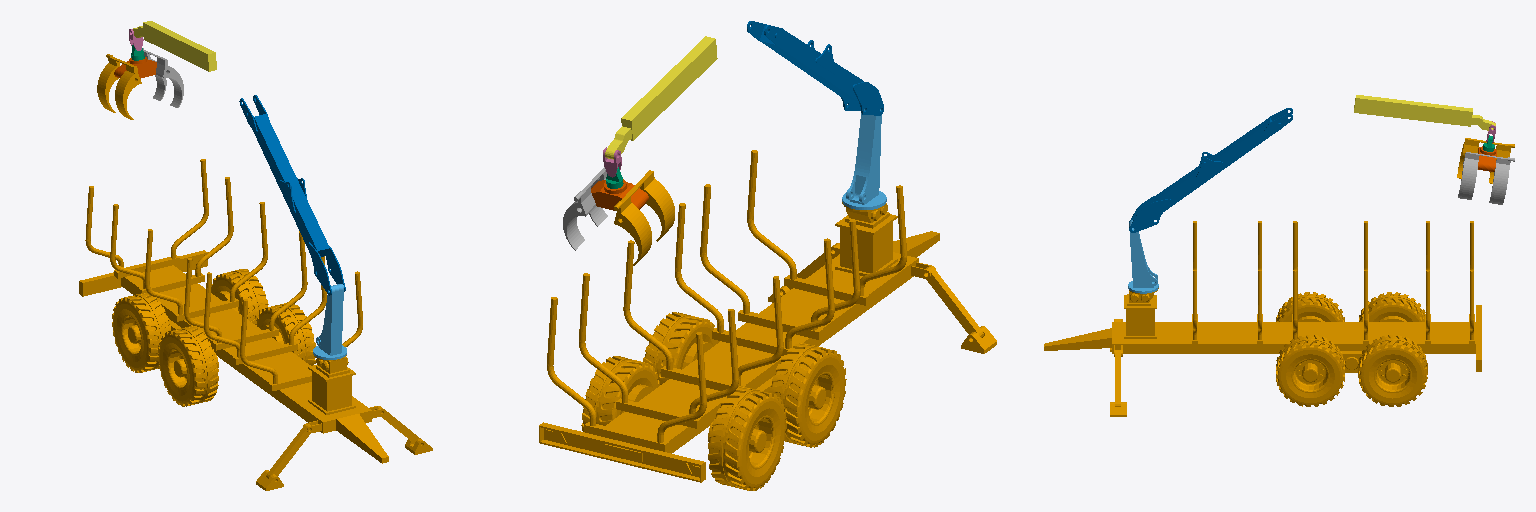
URDF robot description (Forwarder):
<?xml version="1.0" ?>
<robot name="Forwarder">

<material name="yellow">
  <color rgba="0.255 0.194 0.102 1.000"/>
</material>

<link name="base_link">
  <inertial>
    <origin xyz="-0.003908201139738416 0.9506037201761217 0.7021762721407181" rpy="0 0 0"/>
    <mass value="25822.657136799415"/>
    <inertia ixx="68520.30015819168" iyy="14442.08580938712" izz="76765.0744439933" ixy="16.406908694211793" iyz="2841.662999748536" ixz="-4.0217320324372565"/>
  </inertial>
  <visual>
    <origin xyz="0 0 0" rpy="0 0 0"/>
    <geometry>
      <mesh filename="meshes/base_link.stl" scale="0.001 0.001 0.001"/>
    </geometry>
    <material name="silver"/>
    <material/>
  </visual>
  <collision>
    <origin xyz="0 0 0" rpy="0 0 0"/>
    <geometry>
      <mesh filename="meshes/base_link_collision_vhacd.obj" scale="0.001 0.001 0.001"/>
    </geometry>
  </collision>
</link>

<link name="cranePillar1">
  <inertial>
    <origin xyz="3.497467832070701e-07 -0.0698455421799471 0.40873602648964047" rpy="0 0 0"/>
    <mass value="460.1534968092927"/>
    <inertia ixx="59.03278028466866" iyy="56.713124294482895" izz="7.345476497081563" ixy="-1.4077627952246985e-13" iyz="8.862009230487274" ixz="8.895106873296754e-13"/>
  </inertial>
  <visual>
    <origin xyz="0.002853 1.980877 -1.765904" rpy="0 0 0"/>
    <geometry>
      <mesh filename="meshes/cranePillar1.stl" scale="0.001 0.001 0.001"/>
    </geometry>
    <material name="yellow"/>
    <material/>
  </visual>
  <collision>
    <origin xyz="0.002853 1.980877 -1.765904" rpy="0 0 0"/>
    <geometry>
      <mesh filename="meshes/cranePillar1.stl" scale="0.001 0.001 0.001"/>
    </geometry>
  </collision>
</link>

<link name="grappleHook1">
  <inertial>
    <origin xyz="3.4974674460730437e-07 -0.04004389093610916 -0.11887971692825339" rpy="0 0 0"/>
    <mass value="33.99158446471375"/>
    <inertia ixx="0.20725039514286436" iyy="0.22511396492757285" izz="0.13021222476604066" ixy="-1.554312234475219e-14" iyz="-3.464613149617435e-05" ixz="1.0658141036401503e-14"/>
  </inertial>
  <visual>
    <origin xyz="0.042853 -2.404621 -4.66865" rpy="0 0 0"/>
    <geometry>
      <mesh filename="meshes/grappleHook1.stl" scale="0.001 0.001 0.001"/>
    </geometry>
    <material name="silver"/>
    <material/>
  </visual>
  <collision>
    <origin xyz="0.042853 -2.404621 -4.66865" rpy="0 0 0"/>
    <geometry>
      <mesh filename="meshes/grappleHook1.stl" scale="0.001 0.001 0.001"/>
    </geometry>
  </collision>
</link>

<link name="extension1">
  <inertial>
    <origin xyz="0.0900003497467292 0.8396951167363842 0.08216471793409852" rpy="0 0 0"/>
    <mass value="422.2365549320586"/>
    <inertia ixx="278.0083600311318" iyy="32.18252466798731" izz="250.13951836130343" ixy="-1.3145040611561853e-12" iyz="76.28971893436801" ixz="4.973799150320701e-13"/>
  </inertial>
  <visual>
    <origin xyz="0.132853 -0.088447 -5.383919" rpy="0 0 0"/>
    <geometry>
      <mesh filename="meshes/extension1.stl" scale="0.001 0.001 0.001"/>
    </geometry>
    <material name="silver"/>
    <material/>
  </visual>
  <collision>
    <origin xyz="0.132853 -0.088447 -5.383919" rpy="0 0 0"/>
    <geometry>
      <mesh filename="meshes/extension1.stl" scale="0.001 0.001 0.001"/>
    </geometry>
  </collision>
</link>

<link name="craneArm1">
  <inertial>
    <origin xyz="0.11000036108414299 1.097421971310039 1.286886872630769" rpy="0 0 0"/>
    <mass value="498.213131651919"/>
    <inertia ixx="384.12483110332505" iyy="215.59111404062423" izz="176.78289133432247" ixy="1.924221219029576e-06" iyz="-187.50947555514426" ixz="3.474305207973316e-06"/>
  </inertial>
  <visual>
    <origin xyz="0.112853 2.155476 -2.865968" rpy="0 0 0"/>
    <geometry>
      <mesh filename="meshes/craneArm1.stl" scale="0.001 0.001 0.001"/>
    </geometry>
    <material name="silver"/>
    <material/>
  </visual>
  <collision>
    <origin xyz="0.112853 2.155476 -2.865968" rpy="0 0 0"/>
    <geometry>
      <mesh filename="meshes/craneArm1.stl" scale="0.001 0.001 0.001"/>
    </geometry>
  </collision>
</link>

<link name="grappleBody1">
  <inertial>
    <origin xyz="-0.004618843729026323 -5.2031967637589105e-05 -0.14258908582901153" rpy="0 0 0"/>
    <mass value="65.77548879718992"/>
    <inertia ixx="1.449219969319529" iyy="3.390393198914353" izz="3.8958693606421093" ixy="-3.458598317962469e-06" iyz="0.00018453603831858345" ixz="-0.009473751722170576"/>
  </inertial>
  <visual>
    <origin xyz="0.042853 -2.364542 -4.453665" rpy="0 0 0"/>
    <geometry>
      <mesh filename="meshes/grappleBody1.stl" scale="0.001 0.001 0.001"/>
    </geometry>
    <material name="silver"/>
    <material/>
  </visual>
  <collision>
    <origin xyz="0.042853 -2.364542 -4.453665" rpy="0 0 0"/>
    <geometry>
      <mesh filename="meshes/grappleBody1.stl" scale="0.001 0.001 0.001"/>
    </geometry>
  </collision>
</link>

<link name="intermediateHookJnt1">
  <inertial>
    <origin xyz="-0.05999965025325889 -4.401689109601037e-05 -0.12159176394931936" rpy="0 0 0"/>
    <mass value="19.458555791807512"/>
    <inertia ixx="0.18389551539814875" iyy="0.20939610086617222" izz="0.09333485423259447" ixy="-3.108624468950438e-14" iyz="-4.235586175127537e-05" ixz="-1.8207657603852567e-14"/>
  </inertial>
  <visual>
    <origin xyz="-0.017147 -2.364705 -4.901125" rpy="0 0 0"/>
    <geometry>
      <mesh filename="meshes/intermediateHookJnt1.stl" scale="0.001 0.001 0.001"/>
    </geometry>
    <material name="silver"/>
    <material/>
  </visual>
  <collision>
    <origin xyz="-0.017147 -2.364705 -4.901125" rpy="0 0 0"/>
    <geometry>
      <mesh filename="meshes/intermediateHookJnt1.stl" scale="0.001 0.001 0.001"/>
    </geometry>
  </collision>
</link>

<link name="grappleL1">
  <inertial>
    <origin xyz="0.10267709197957409 -0.14637698444689073 -0.09865882854697983" rpy="0 0 0"/>
    <mass value="252.06590264464234"/>
    <inertia ixx="26.418413918627266" iyy="8.905221520147279" izz="21.967850629110444" ixy="0.10502398340304353" iyz="-0.27276407811541503" ixz="2.8947273923490684"/>
  </inertial>
  <visual>
    <origin xyz="-0.237147 -2.514479 -4.27984" rpy="0 0 0"/>
    <geometry>
      <mesh filename="meshes/grappleL1.stl" scale="0.001 0.001 0.001"/>
    </geometry>
    <material name="silver"/>
    <material/>
  </visual>
  <collision concave="yes">
    <origin xyz="-0.237147 -2.514479 -4.27984" rpy="0 0 0"/>
    <geometry>
      <mesh filename="meshes/grappleL1.stl" scale="0.001 0.001 0.001"/>
    </geometry>
  </collision>
</link>

<link name="grappleR1">
  <inertial>
    <origin xyz="-0.10299585355977209 -0.14737154539613462 -0.10780227464296921" rpy="0 0 0"/>
    <mass value="307.2406805414771"/>
    <inertia ixx="34.49232494731041" iyy="12.480057091173876" izz="27.70269767525133" ixy="-0.09405649550137696" iyz="-0.25324540319525113" ixz="-3.82194570976219"/>
  </inertial>
  <visual>
    <origin xyz="0.322853 -2.514479 -4.27984" rpy="0 0 0"/>
    <geometry>
      <mesh filename="meshes/grappleR1.stl" scale="0.001 0.001 0.001"/>
    </geometry>
    <material name="silver"/>
    <material/>
  </visual>
  <collision concave="yes">
    <origin xyz="0.322853 -2.514479 -4.27984" rpy="0 0 0"/>
    <geometry>
      <mesh filename="meshes/grappleR1.stl" scale="0.001 0.001 0.001"/>
    </geometry>
  </collision>
</link>

<joint name="Revolute_1" type="continuous">
  <origin xyz="-0.002853 -1.980877 1.765904" rpy="0 0 0"/>
  <parent link="base_link"/>
  <child link="cranePillar1"/>
  <axis xyz="-0.0 0.000365 1.0"/>
  <limit lower="-1.54" upper="1.54"/>
</joint>
<transmission name="Revolute_1_tran">
  <type>transmission_interface/SimpleTransmission</type>
  <joint name="Revolute_1">
    <hardwareInterface>PositionJointInterface</hardwareInterface>
  </joint>
  <actuator name="Revolute_1_actr">
    <hardwareInterface>PositionJointInterface</hardwareInterface>
    <mechanicalReduction>1</mechanicalReduction>
  </actuator>
</transmission>

<joint name="Revolute_25" type="continuous">
  <origin xyz="-0.11 -0.174599 1.100064" rpy="0 0 0"/>
  <parent link="cranePillar1"/>
  <child link="craneArm1"/>
  <axis xyz="1.0 -0.0 0.0"/>
  <limit lower="-1.54" upper="0.15"/>
</joint>
<transmission name="Revolute_25_tran">
  <type>transmission_interface/SimpleTransmission</type>
  <joint name="Revolute_25">
    <hardwareInterface>PositionJointInterface</hardwareInterface>
  </joint>
  <actuator name="Revolute_25_actr">
    <hardwareInterface>PositionJointInterface</hardwareInterface>
    <mechanicalReduction>1</mechanicalReduction>
  </actuator>
</transmission>

<joint name="Revolute_24" type="continuous">
  <origin xyz="-0.02 2.243923 2.517951" rpy="0 0 0"/>
  <parent link="craneArm1"/>
  <child link="extension1"/>
  <axis xyz="1.0 -0.0 0.0"/>
</joint>
<transmission name="Revolute_24_tran">
  <type>transmission_interface/SimpleTransmission</type>
  <joint name="Revolute_24">
    <hardwareInterface>PositionJointInterface</hardwareInterface>
  </joint>
  <actuator name="Revolute_24_actr">
    <hardwareInterface>PositionJointInterface</hardwareInterface>
    <mechanicalReduction>1</mechanicalReduction>
  </actuator>
</transmission>

<joint name="Revolute_27" type="continuous">
  <origin xyz="0.15 2.276258 -0.482794" rpy="0 0 0"/>
  <parent link="extension1"/>
  <child link="intermediateHookJnt1"/>
  <axis xyz="1.0 -0.0 0.0"/>
</joint>
<transmission name="Revolute_27_tran">
  <type>transmission_interface/SimpleTransmission</type>
  <joint name="Revolute_27">
    <hardwareInterface>PositionJointInterface</hardwareInterface>
  </joint>
  <actuator name="Revolute_27_actr">
    <hardwareInterface>PositionJointInterface</hardwareInterface>
    <mechanicalReduction>1</mechanicalReduction>
  </actuator>
</transmission>

<joint name="Revolute_16" type="continuous">
  <origin xyz="-0.06 0.039916 -0.232475" rpy="0 0 0"/>
  <parent link="intermediateHookJnt1"/>
  <child link="grappleHook1"/>
  <axis xyz="-0.0 -1.0 0.000365"/>
</joint>
<transmission name="Revolute_16_tran">
  <type>transmission_interface/SimpleTransmission</type>
  <joint name="Revolute_16">
    <hardwareInterface>PositionJointInterface</hardwareInterface>
  </joint>
  <actuator name="Revolute_16_actr">
    <hardwareInterface>PositionJointInterface</hardwareInterface>
    <mechanicalReduction>1</mechanicalReduction>
  </actuator>
</transmission>

<joint name="Revolute_26" type="continuous">
  <origin xyz="0.0 -0.040079 -0.214985" rpy="0 0 0"/>
  <parent link="grappleHook1"/>
  <child link="grappleBody1"/>
  <axis xyz="0.0 -0.000365 -1.0"/>
  <!--limit lower="-3.14" upper="3.14"/-->
</joint>
<transmission name="Revolute_26_tran">
  <type>transmission_interface/SimpleTransmission</type>
  <joint name="Revolute_26">
    <hardwareInterface>PositionJointInterface</hardwareInterface>
  </joint>
  <actuator name="Revolute_26_actr">
    <hardwareInterface>PositionJointInterface</hardwareInterface>
    <mechanicalReduction>1</mechanicalReduction>
  </actuator>
</transmission>

<joint name="Revolute_30" type="continuous">
  <origin xyz="0.28 0.149937 -0.173825" rpy="0 0 0"/>
  <parent link="grappleBody1"/>
  <child link="grappleL1"/>
  <axis xyz="-0.0 -1.0 0.000365"/>
</joint>
<transmission name="Revolute_30_tran">
  <type>transmission_interface/SimpleTransmission</type>
  <joint name="Revolute_30">
    <hardwareInterface>PositionJointInterface</hardwareInterface>
  </joint>
  <actuator name="Revolute_30_actr">
    <hardwareInterface>PositionJointInterface</hardwareInterface>
    <mechanicalReduction>1</mechanicalReduction>
  </actuator>
</transmission>

<joint name="Revolute_31" type="continuous">
  <origin xyz="-0.28 0.149937 -0.173825" rpy="0 0 0"/>
  <parent link="grappleBody1"/>
  <child link="grappleR1"/>
  <axis xyz="-0.0 -1.0 0.000365"/>
  <limit lower="-1.54" upper=".6"/>
</joint>
<!--transmission name="Revolute_31_tran"-->
  <!--type>transmission_interface/SimpleTransmission</type-->
  <!--joint name="Revolute_31"-->
    <!--hardwareInterface>PositionJointInterface</hardwareInterface-->
  <!--/joint-->
  <!--actuator name="Revolute_31_actr"-->
    <!--hardwareInterface>PositionJointInterface</hardwareInterface-->
    <!--mechanicalReduction>1</mechanicalReduction-->
  <!--/actuator-->
<!--/transmission-->



</robot>

--- Render facts (derived) ---
Views: 3 orthographic renders of the robot side by side, from view 1: azimuth 30°, elevation 25°; view 2: azimuth 150°, elevation 25°; view 3: azimuth 270°, elevation 25°.
Robot: Forwarder — 9 links, 8 joints (8 continuous); root link base_link; default pose: every joint at zero.
Visible links, largest first — view 1: base_link, craneArm1, extension1, cranePillar1, grappleR1, grappleL1; view 2: base_link, craneArm1, extension1, cranePillar1, grappleR1, grappleL1, grappleBody1; view 3: base_link, craneArm1, extension1, grappleL1, cranePillar1, grappleR1.
Boxes of the visible links, x1=… form: base_link: x1=79, y1=159, x2=432, y2=490; craneArm1: x1=239, y1=95, x2=345, y2=295; extension1: x1=133, y1=21, x2=216, y2=71; cranePillar1: x1=313, y1=284, x2=346, y2=359; grappleR1: x1=97, y1=54, x2=141, y2=119; grappleL1: x1=143, y1=48, x2=183, y2=107; base_link: x1=539, y1=150, x2=996, y2=490; craneArm1: x1=747, y1=21, x2=883, y2=115; extension1: x1=605, y1=36, x2=717, y2=159; cranePillar1: x1=842, y1=109, x2=886, y2=209; grappleR1: x1=614, y1=170, x2=674, y2=265; grappleL1: x1=563, y1=167, x2=607, y2=250; grappleBody1: x1=591, y1=179, x2=648, y2=210; base_link: x1=1044, y1=221, x2=1481, y2=416; craneArm1: x1=1129, y1=108, x2=1292, y2=232; extension1: x1=1354, y1=95, x2=1495, y2=130; grappleL1: x1=1458, y1=152, x2=1514, y2=204; cranePillar1: x1=1128, y1=220, x2=1158, y2=293; grappleR1: x1=1457, y1=138, x2=1514, y2=183.
Size in the robot's own frame: 2.93 by 7.99 by 5.33 metres.
Meshes: 9 distinct files referenced, 9 mesh visuals loaded (9 binary STL).